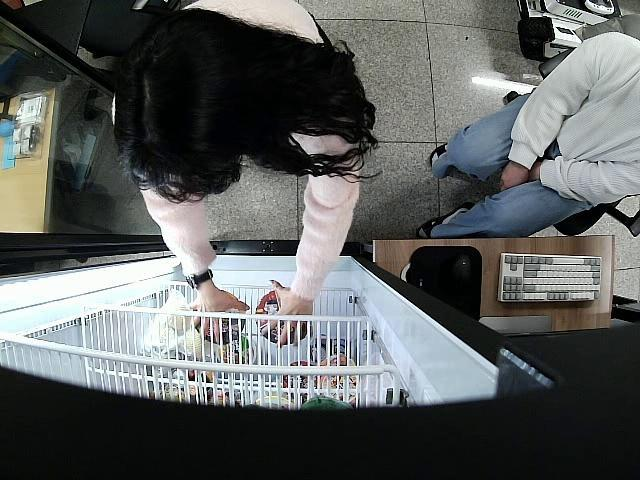07_buldak_L: (256, 292, 308, 346), (192, 304, 247, 345)
